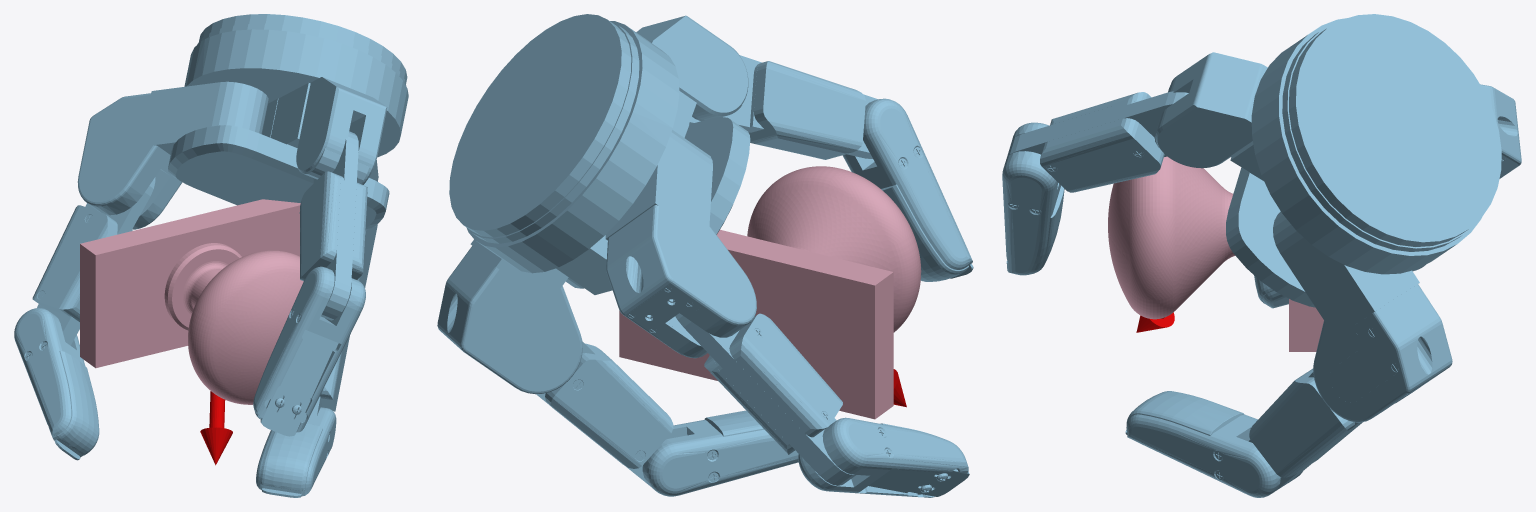
3 views of the same model, side by side, from view 1: azimuth 30°, elevation 25°; view 2: azimuth 150°, elevation 25°; view 3: azimuth 270°, elevation 25° (orthographic). The views are drawn at different scales.
Visible parts, largest first — view 1: world, door_knob.stl; view 2: world, door_knob.stl; view 3: world, door_knob.stl.
Part boxes in pixels (x1=…): world: x1=14, y1=14, x2=408, y2=497; door_knob.stl: x1=80, y1=199, x2=303, y2=404; world: x1=437, y1=14, x2=973, y2=497; door_knob.stl: x1=619, y1=166, x2=921, y2=419; world: x1=1002, y1=14, x2=1521, y2=497; door_knob.stl: x1=1108, y1=156, x2=1323, y2=351.
Size of the model in its own units: 0.1789 by 0.1816 by 0.1795.
